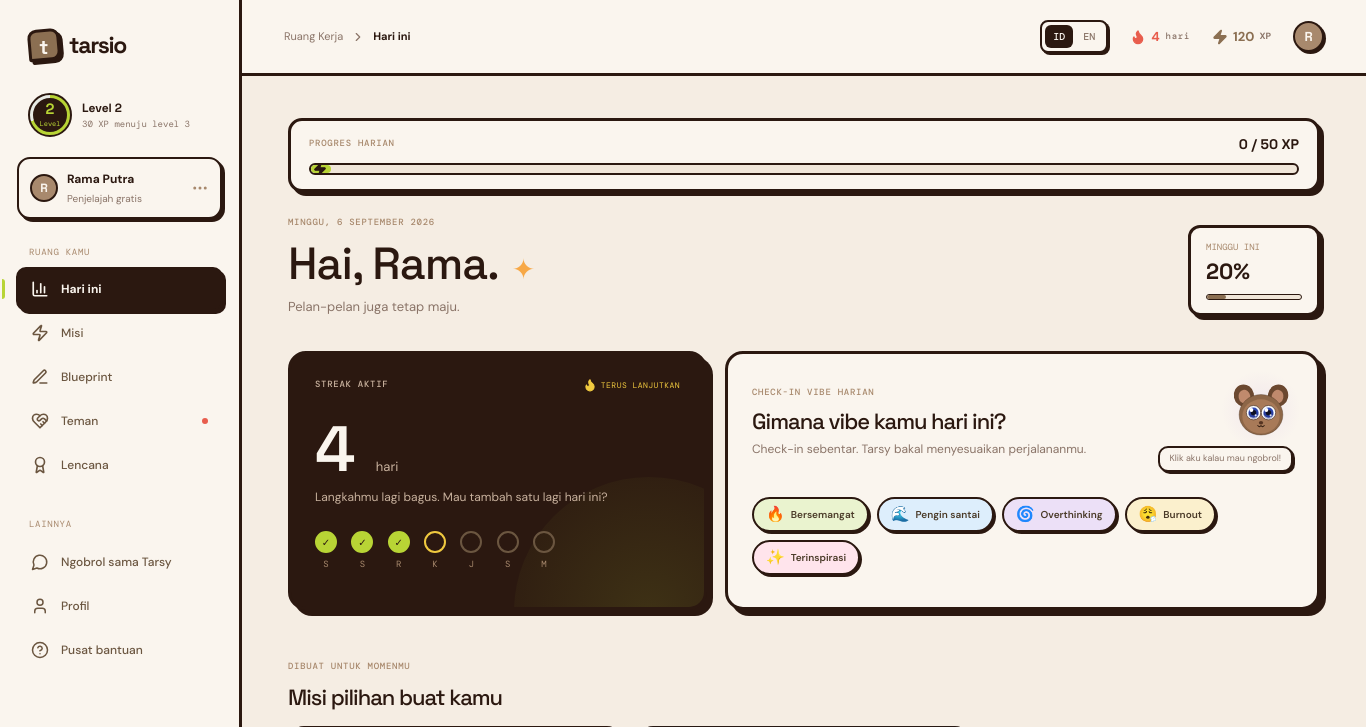
Test: Dashboard › switches to the Achievements view and lists every badge
This screenshot has width=1366, height=727.
Expected: the heading "Hai, Rama. ✦" is shown, [288,240,534,286]
Step 1. Click the button "Lencana" → (120, 465), box [16,443,223,487]
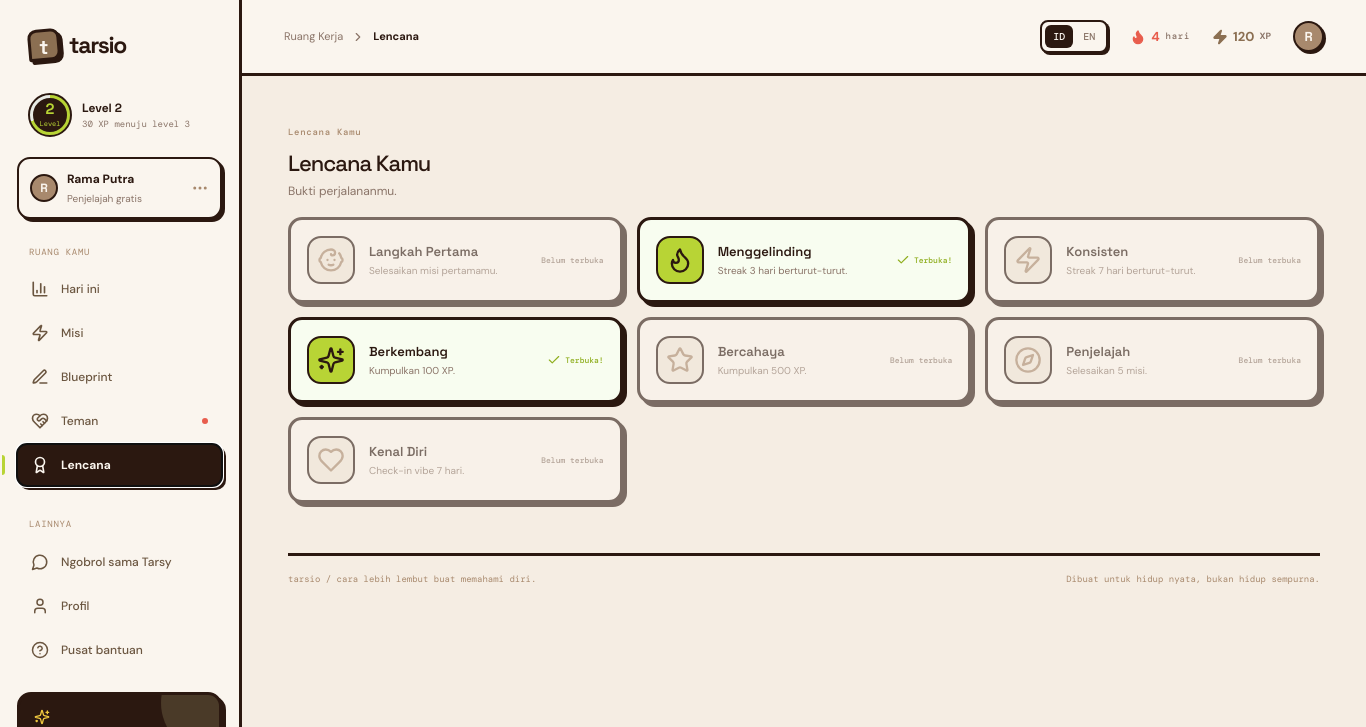
Expected: the number of elements with class "achievement-card" is 7
